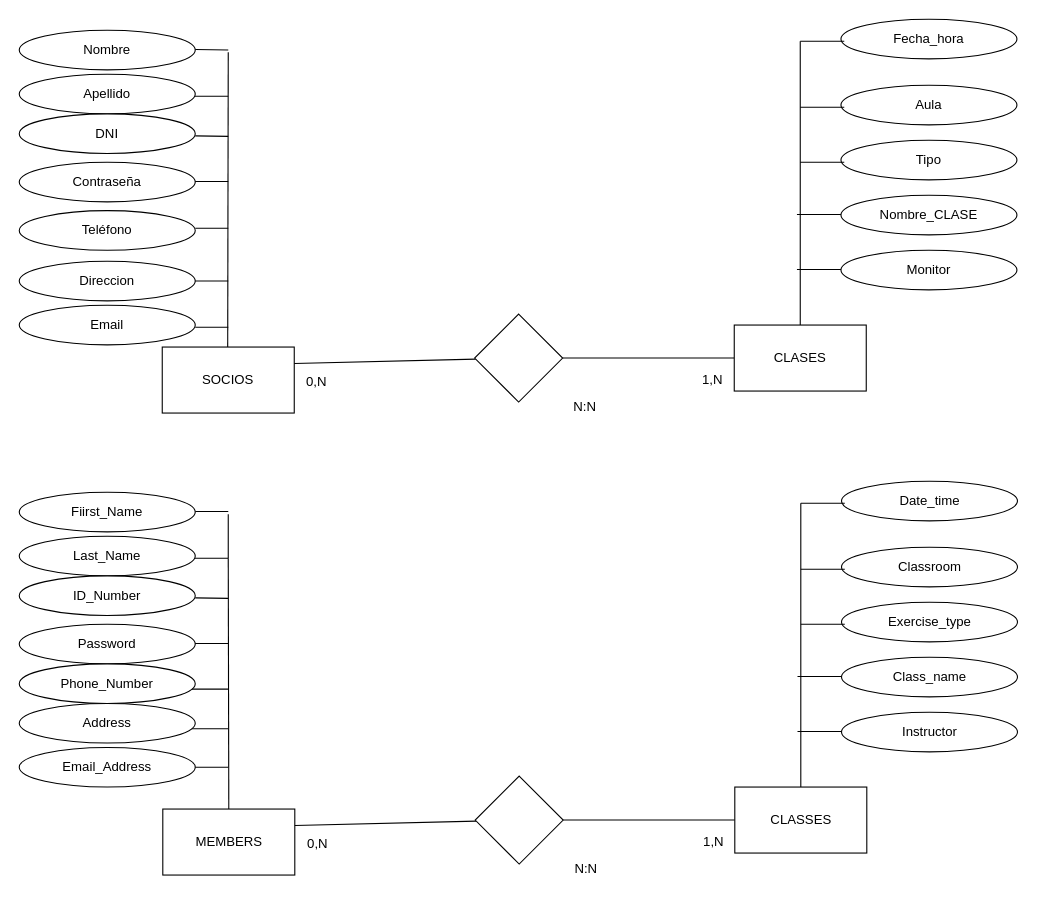
The diagram is 1037 pixels wide and 905 high, and some of its shapes have lost their labels. The shapes that lost their labels are listed below. From the top down, each one's centre as x and y in pixels, then its label:
At (x=518, y=357): "apuntan".
At (x=518, y=819): "Reserve".
